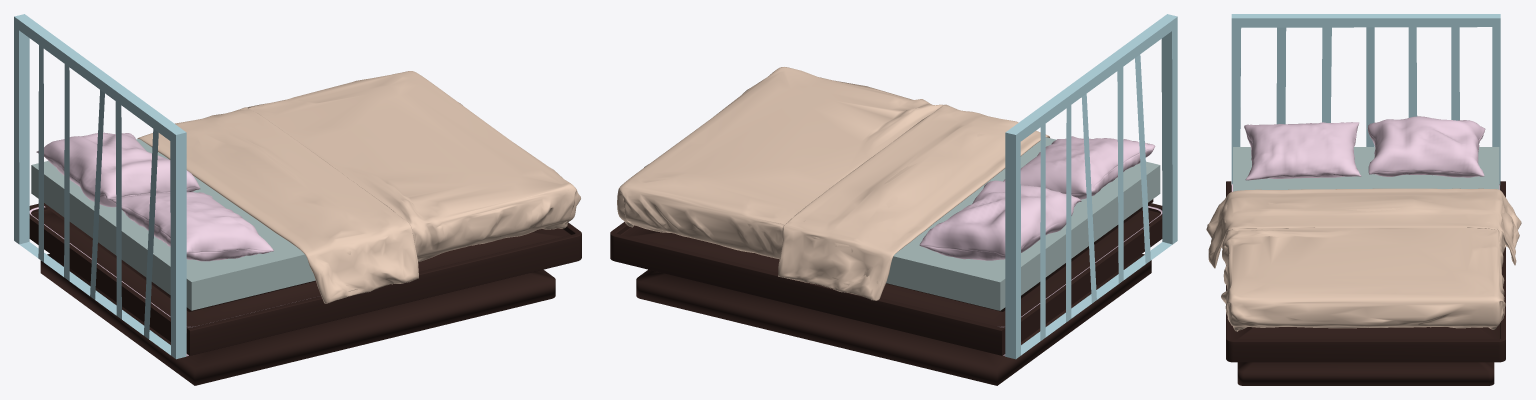
File: yatak.fbx
3 views of the same model, side by side, from view 1: azimuth 30°, elevation 25°; view 2: azimuth 150°, elevation 25°; view 3: azimuth 270°, elevation 25° (orthographic). The views are drawn at different scales.
Parts seen in each view (by area): view 1: Cube.002, Cube, Cube.003, Cube.001; view 2: Cube.002, Cube, Cube.003, Cube.001; view 3: Cube.002, Cube, Cube.003, Cube.001.
Part boxes in pixels (bbox=[...]): Cube.002: bbox=[36, 71, 580, 303]; Cube: bbox=[29, 203, 581, 385]; Cube.003: bbox=[14, 14, 186, 359]; Cube.001: bbox=[31, 139, 315, 310]; Cube.002: bbox=[617, 67, 1155, 300]; Cube: bbox=[610, 199, 1162, 385]; Cube.003: bbox=[1005, 14, 1177, 359]; Cube.001: bbox=[886, 137, 1160, 310]; Cube.002: bbox=[1206, 116, 1521, 331]; Cube: bbox=[1226, 181, 1505, 385]; Cube.003: bbox=[1231, 14, 1500, 184]; Cube.001: bbox=[1233, 147, 1499, 191].
Bounding box in the file's own units: 479 × 289 × 383.
